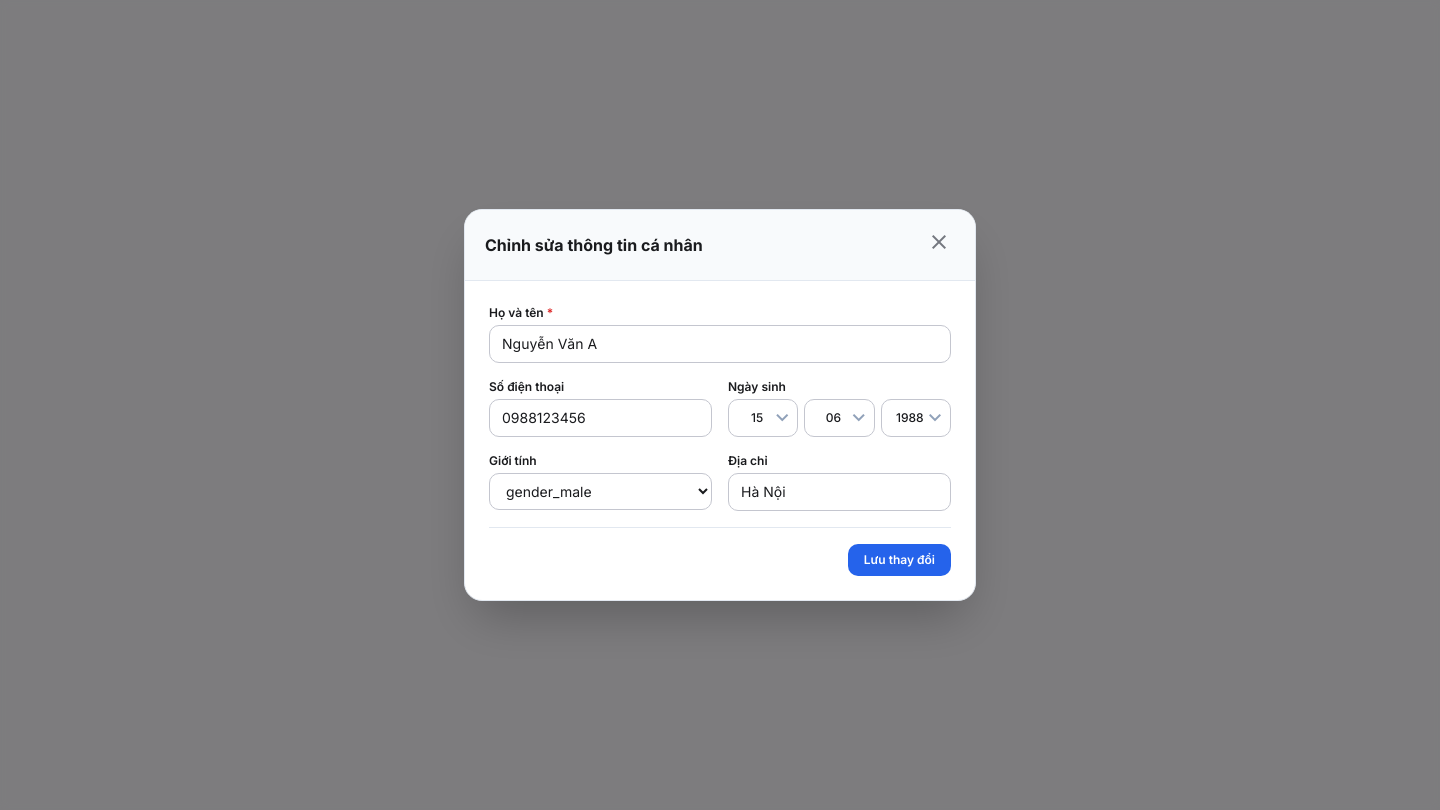
Test: EditProfileModal — Cancel button removal, backdrop lock, phone & DOB validation › rejects submitting and shows error when phone number has fewer than 10 digits
Step 1. Replace the text in the field labelled "Số điện thoại" with "098812345" → (600, 418), box [489, 399, 712, 437]
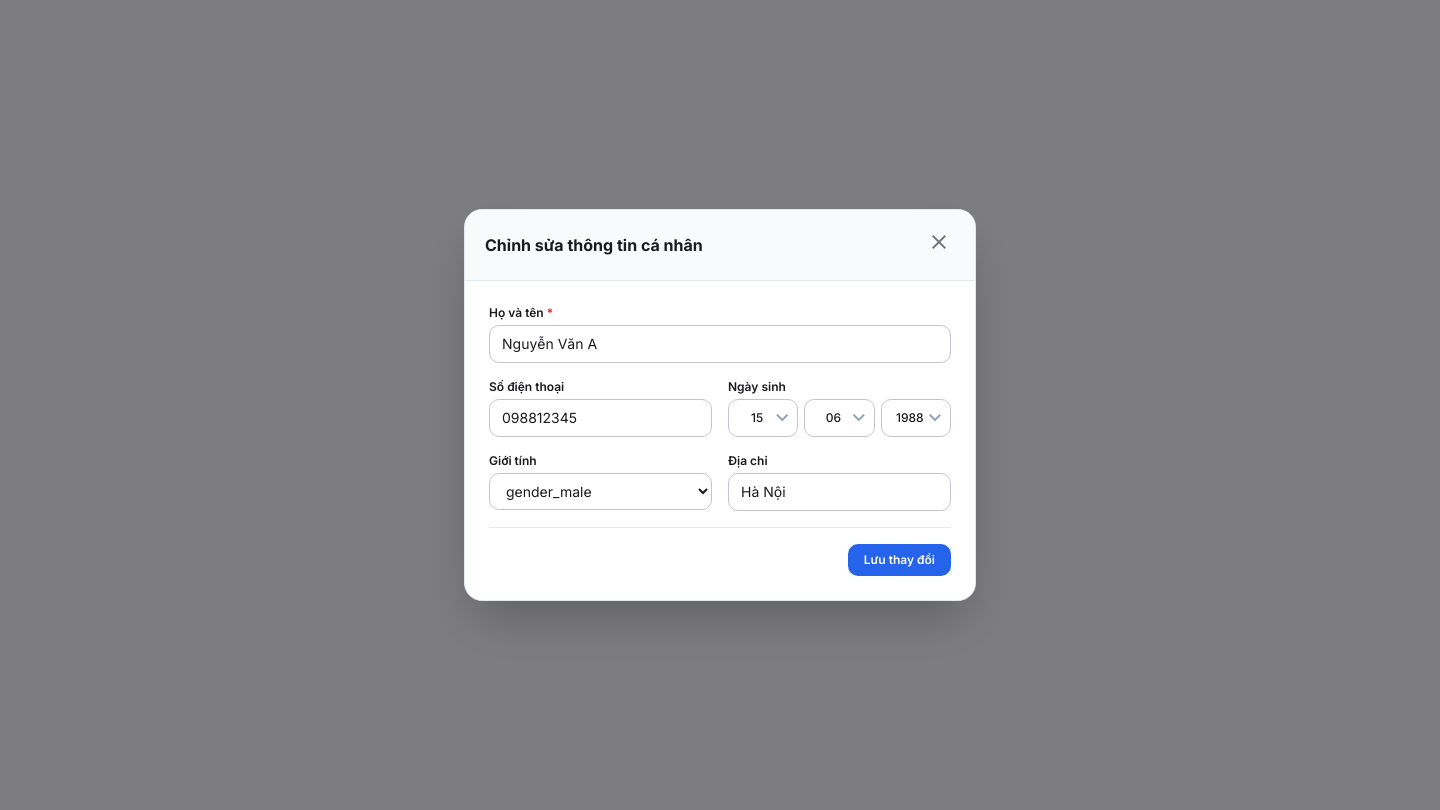
Step 2. Click the button "Lưu thay đổi" → (899, 560), box [848, 544, 951, 576]
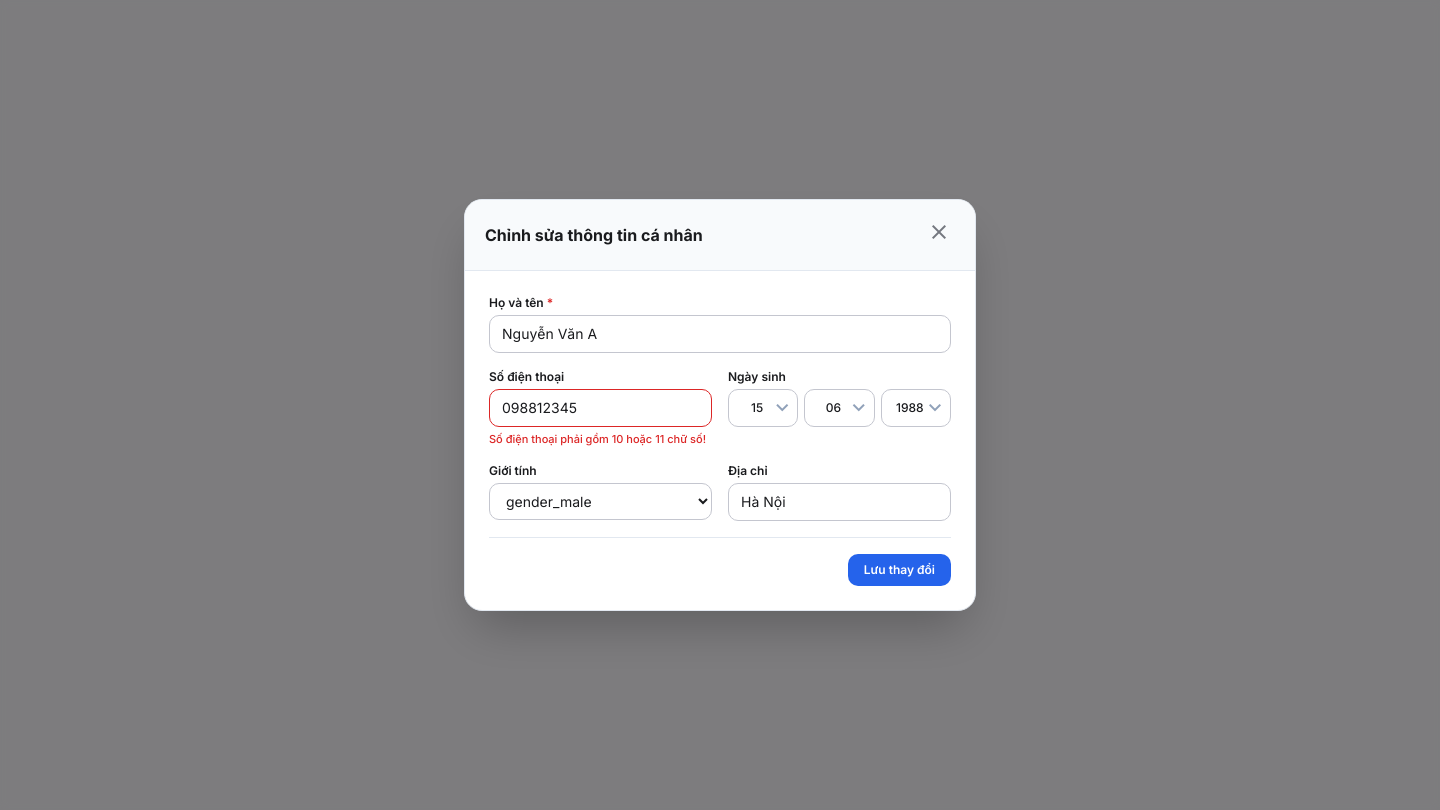
Check: the text "Số điện thoại phải gồm 10 hoặc 11 chữ số!" is shown, box [489, 431, 712, 447]
